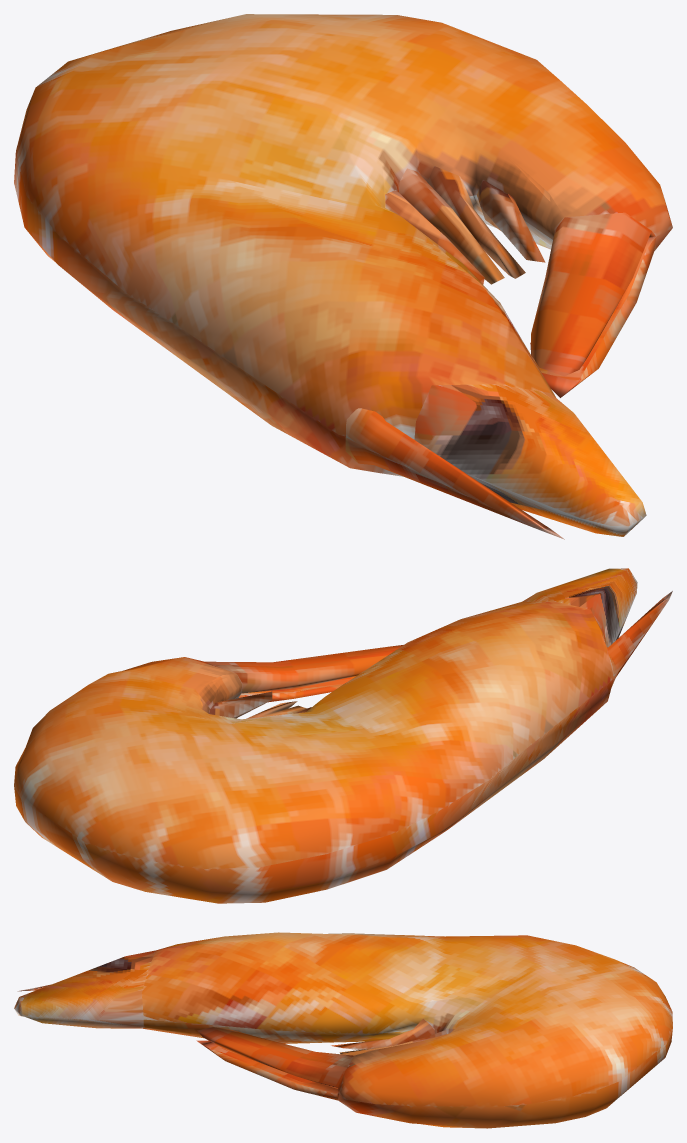
Rendered from ref_shrimp.glb.
3 views of the same model, one above another, from view 1: azimuth 30°, elevation 25°; view 2: azimuth 150°, elevation 25°; view 3: azimuth 270°, elevation 25° (orthographic). The views are drawn at different scales.
Visible parts, largest first — view 1: ref_shrimp; view 2: ref_shrimp; view 3: ref_shrimp.
Boxes of the visible parts, box(x1,y1,x2,y2) form: ref_shrimp: box(14, 14, 672, 539); ref_shrimp: box(14, 568, 672, 903); ref_shrimp: box(14, 932, 672, 1128).
Size of the model in its own units: 0.5295 by 0.1619 by 1.
Materials: 1 (1 with a texture image).
